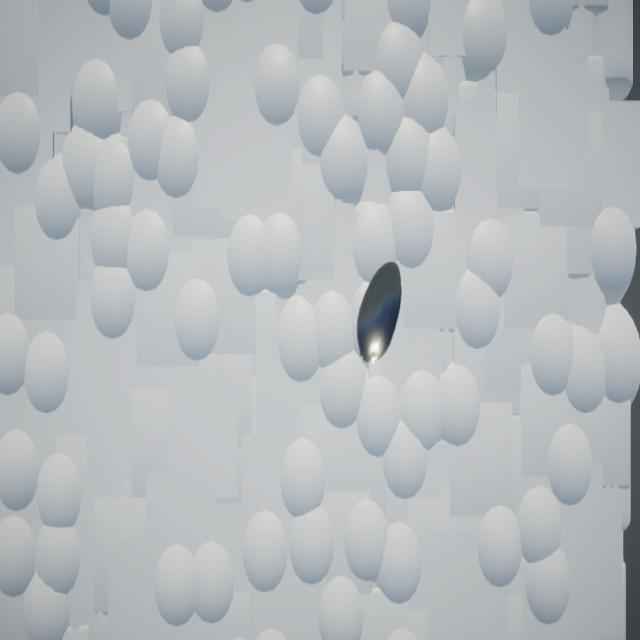top_spoon: (358, 262, 403, 364)
